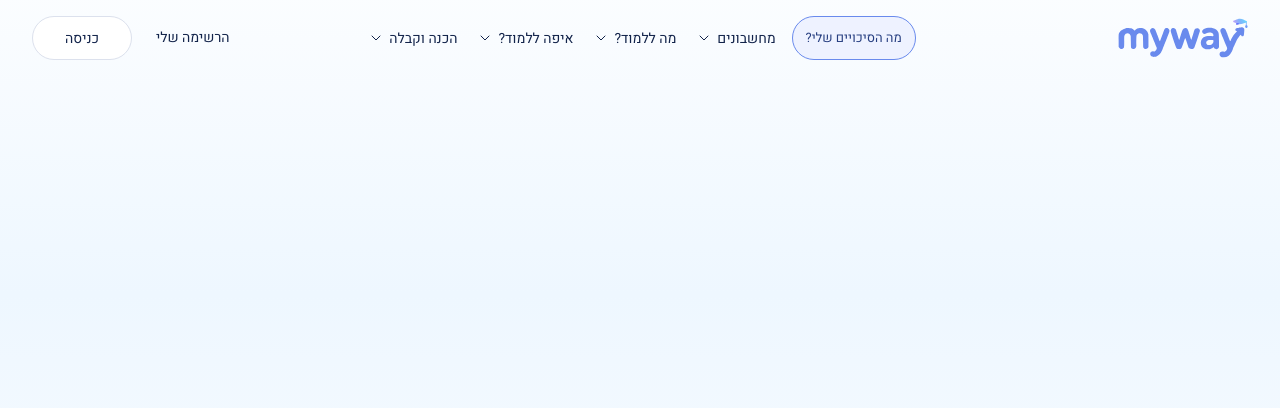
it: shared current navigation › opens only one dropdown at a time
Click the button "מחשבונים" at (736, 38), box x1=692 y1=16 x2=780 y2=60
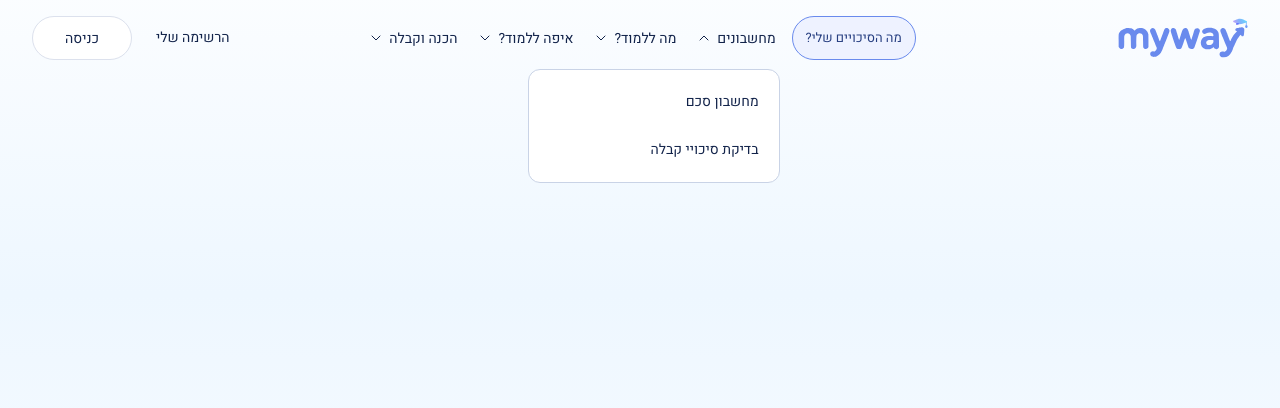
Click the button "מה ללמוד?" at (635, 38), box x1=590 y1=16 x2=680 y2=60
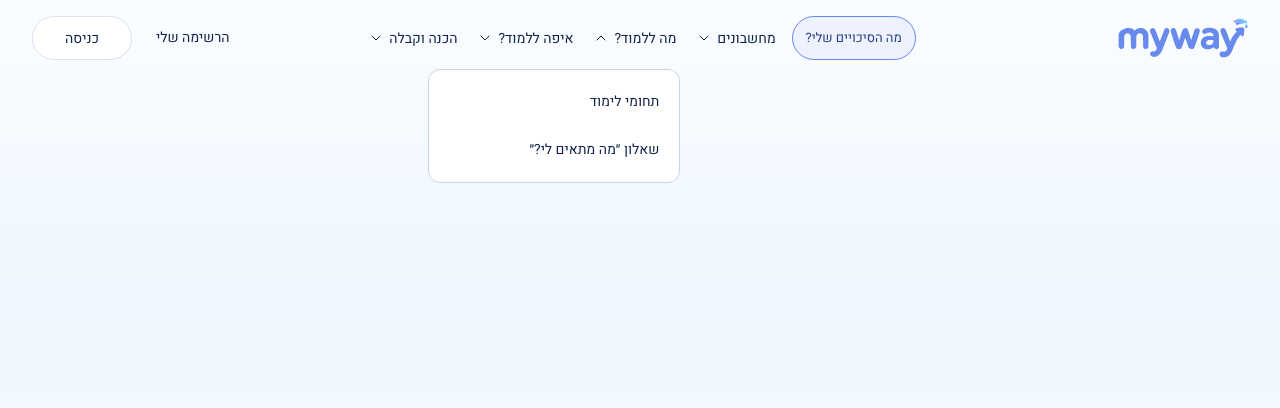
Check: the link "מחשבון סכם" is gone
